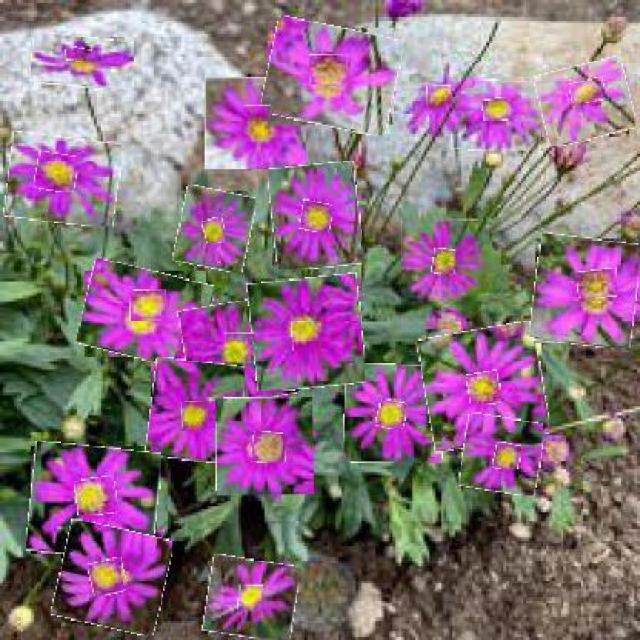Flower: (422, 326, 548, 449), (29, 443, 160, 559), (263, 23, 400, 132), (81, 264, 212, 365), (250, 276, 364, 390), (181, 298, 298, 405), (56, 524, 170, 633), (532, 236, 640, 347), (6, 134, 120, 225), (216, 398, 316, 498), (344, 364, 444, 464), (148, 360, 244, 463), (205, 77, 308, 171), (270, 163, 361, 269), (538, 61, 635, 144), (205, 557, 299, 638), (401, 219, 481, 302), (452, 79, 541, 152), (462, 416, 543, 496), (176, 188, 253, 271), (404, 62, 481, 136), (30, 35, 135, 89), (36, 153, 79, 193), (76, 476, 119, 516), (90, 559, 127, 596), (310, 54, 350, 86), (577, 269, 618, 300), (130, 290, 168, 322), (252, 431, 288, 464), (468, 372, 502, 406), (300, 200, 334, 232), (292, 321, 325, 353), (225, 332, 256, 365), (377, 400, 408, 431), (182, 401, 211, 430), (571, 79, 606, 103), (494, 442, 521, 470), (245, 105, 272, 131), (239, 586, 265, 612), (432, 249, 456, 275), (483, 98, 509, 121), (426, 86, 452, 109), (203, 218, 226, 244), (66, 48, 95, 63)
